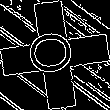O_E: (27, 30, 83, 80)
